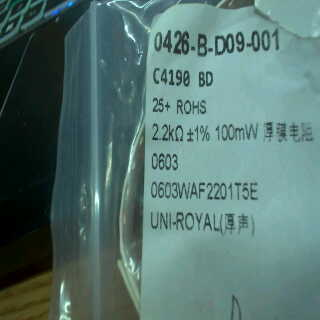2.2kR: (151, 120, 186, 145)
